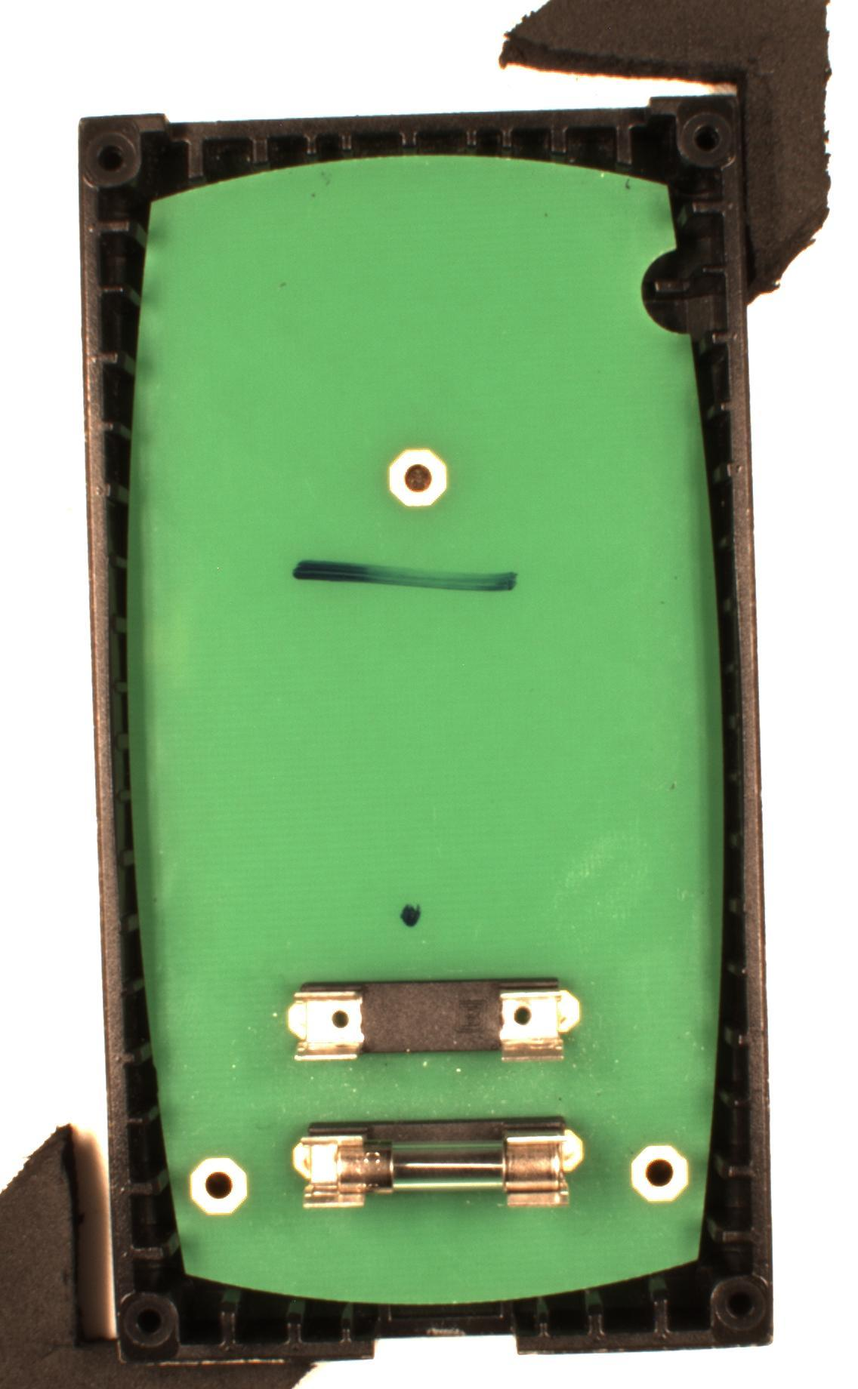Linijsko Ostecene: (290, 558, 518, 594)
Nepostojanje osiguraca: (285, 976, 583, 1065)
Tockasto Ostecenje: (400, 902, 423, 930)
